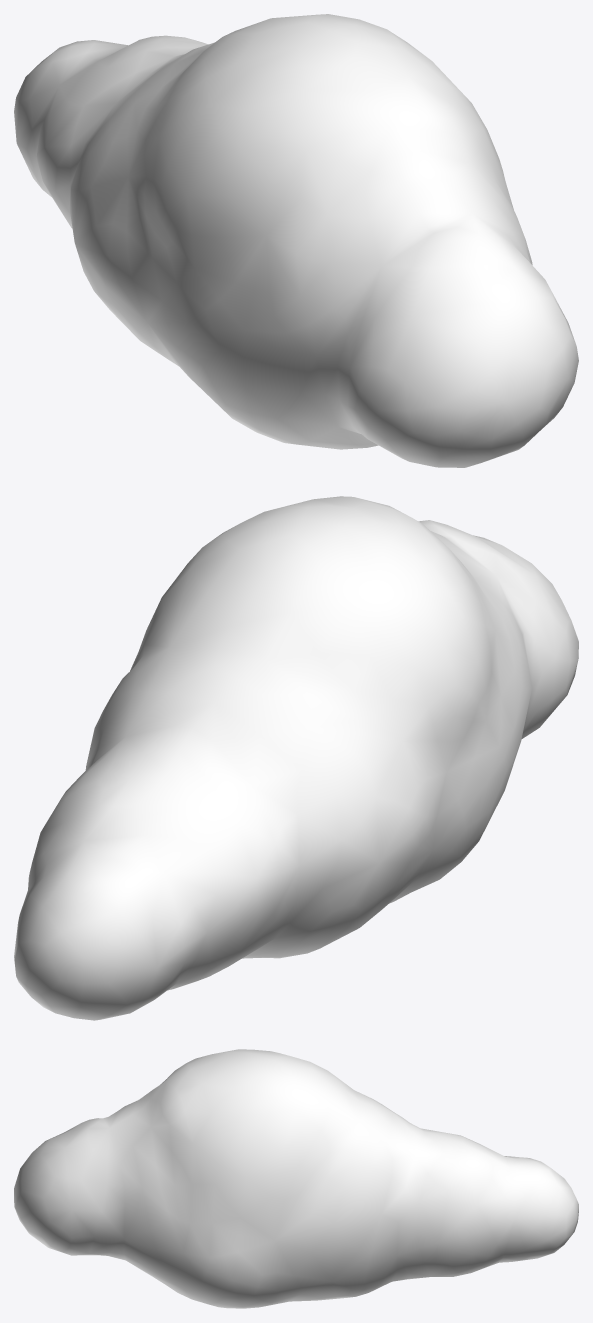
File: Nuvem01.glb
3 renders of one model, top to bottom at view 1: azimuth 30°, elevation 25°; view 2: azimuth 150°, elevation 25°; view 3: azimuth 270°, elevation 25°, orthographic. The views are drawn at different scales.
Parts seen in each view (by area): view 1: Sphere.002; view 2: Sphere.002; view 3: Sphere.002.
Boxes of the visible parts, x1,y1,x2,y2 form: Sphere.002: (14,14,578,467); Sphere.002: (14,496,578,1020); Sphere.002: (14,1049,578,1308).
Size of the model in its own units: 2.15 by 2.38 by 5.22.
Materials: 1 (1 with a texture image).
